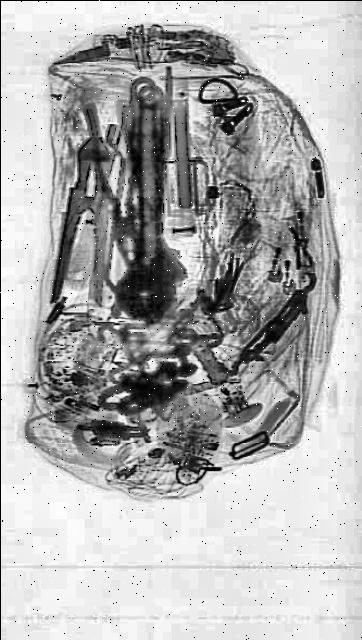Pliers: (52, 127, 124, 323)
